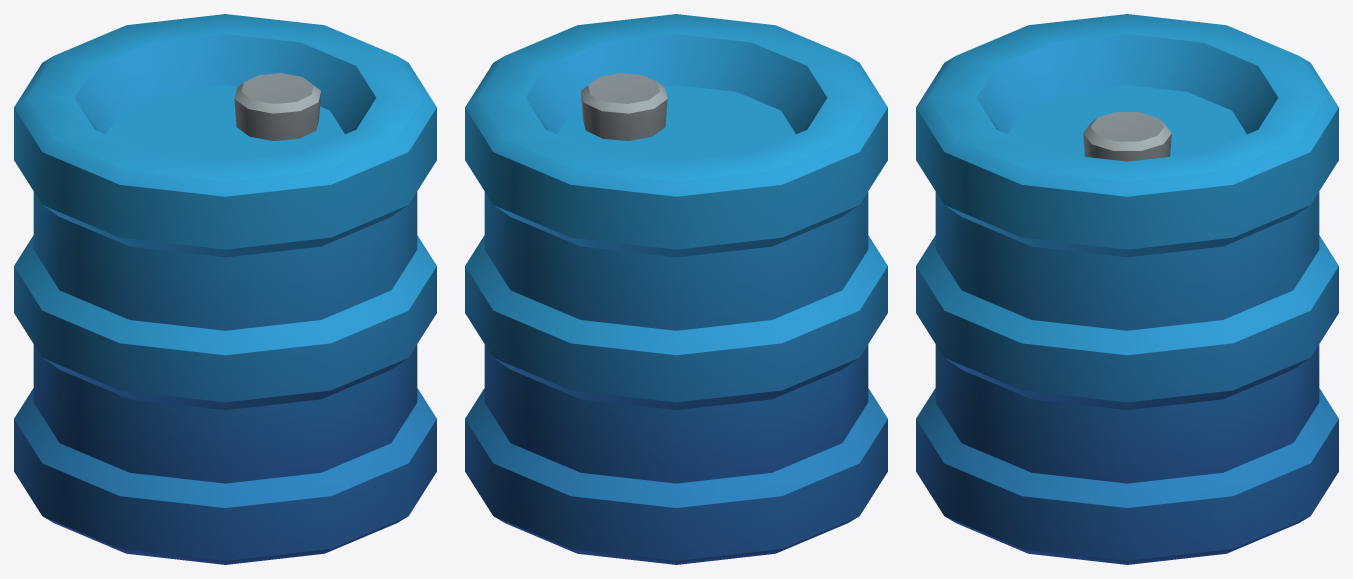
Rendered from Barrel.fbx.
The picture shows the model from 3 angles, left to right: view 1: azimuth 30°, elevation 25°; view 2: azimuth 150°, elevation 25°; view 3: azimuth 270°, elevation 25°; orthographic projection.
Visible parts, largest first — view 1: Barrel; view 2: Barrel; view 3: Barrel.
Part boxes in pixels (<box>): Barrel: <box>14,14,436,564</box>; Barrel: <box>465,14,887,564</box>; Barrel: <box>916,14,1338,564</box>.
Bounding box in the file's own units: 1 × 1 × 1.
